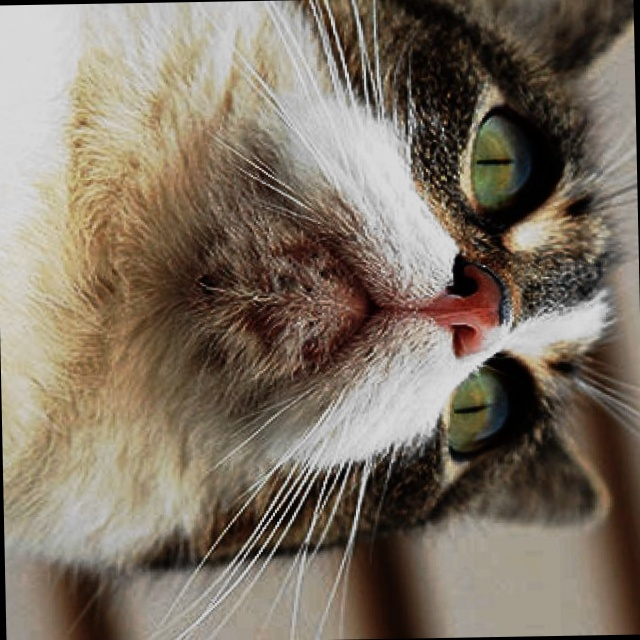acne: (183, 251, 330, 332)
